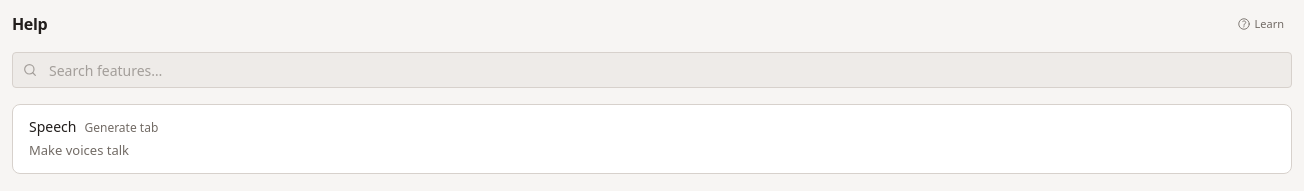
it: HelpCenter › lists catalog features and searches
Check: the text "Speech" is shown, box [29,117,76,137]
Type "voice" into the search field named "Search help".
click(652, 70); type("voice")  # box [12,52,1292,88]
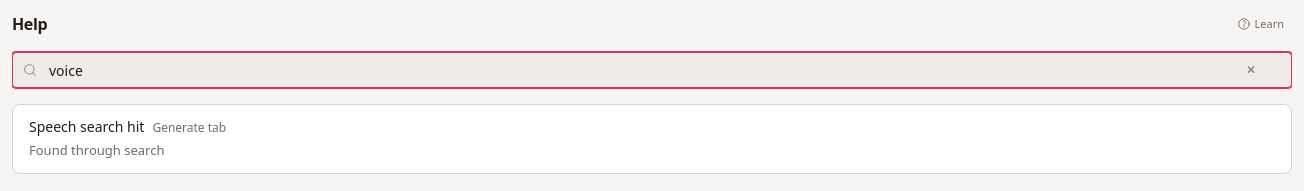
Check: the text "Found through search" is shown, box [29,141,164,159]
